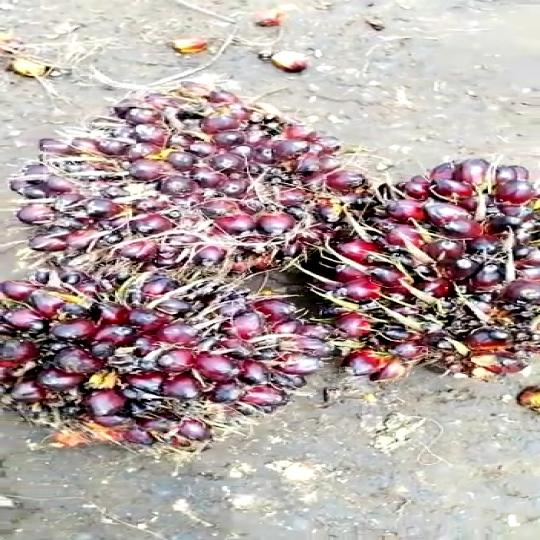kurang masak: (0, 81, 336, 285), (278, 144, 540, 402), (0, 258, 344, 444)
